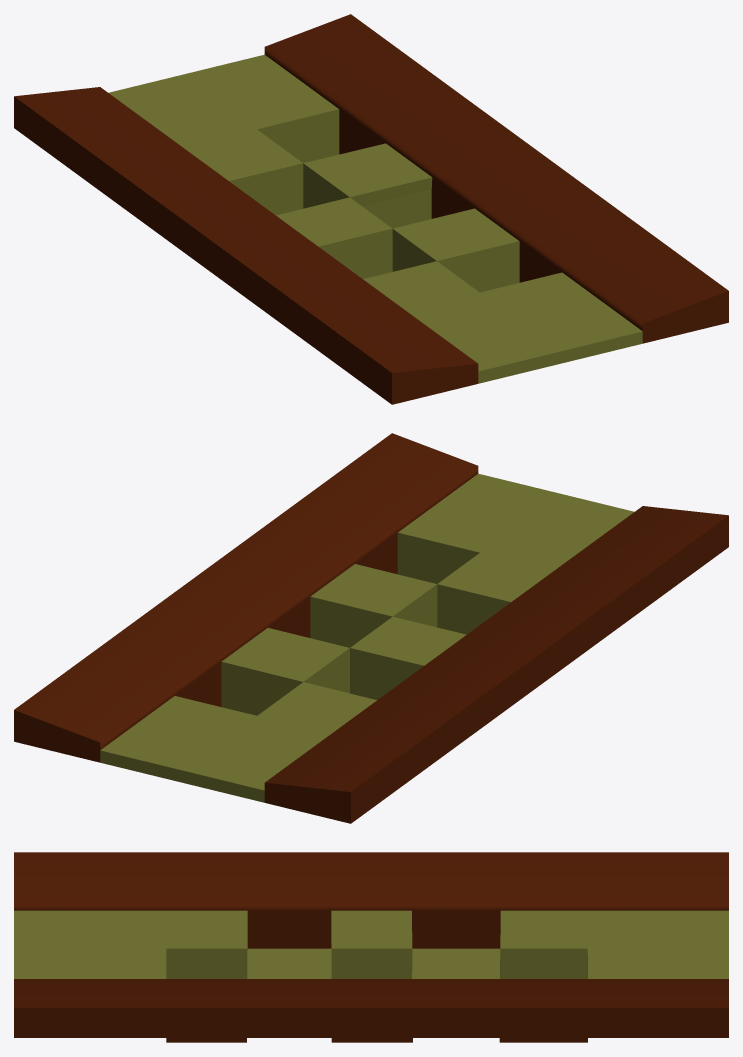
The model's file is Acid_Track 1.fbx.
The picture shows the model from 3 angles, top to bottom: view 1: azimuth 30°, elevation 25°; view 2: azimuth 150°, elevation 25°; view 3: azimuth 270°, elevation 25°; orthographic projection. The views are drawn at different scales.
Visible parts, largest first — view 1: Acid; view 2: Acid; view 3: Acid.
Boxes of the visible parts, x1,y1,x2,y2 form: Acid: [14, 14, 728, 404]; Acid: [14, 433, 728, 823]; Acid: [14, 852, 728, 1042].
Bounding box in the file's own units: 2867 × 641 × 5575.
